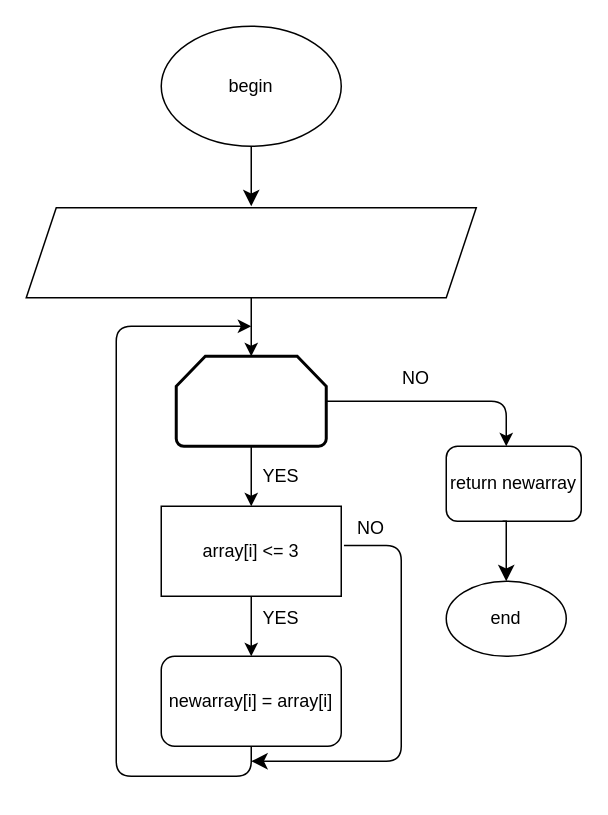
This 608x815 diagram has some shape labels left out. Each missing label, with the centre of its shape:
i < array.Langht: the point at 250,400
Пользователь задает массив array[]. string[] newArray = new string[array.Langht]: the point at 250,252
